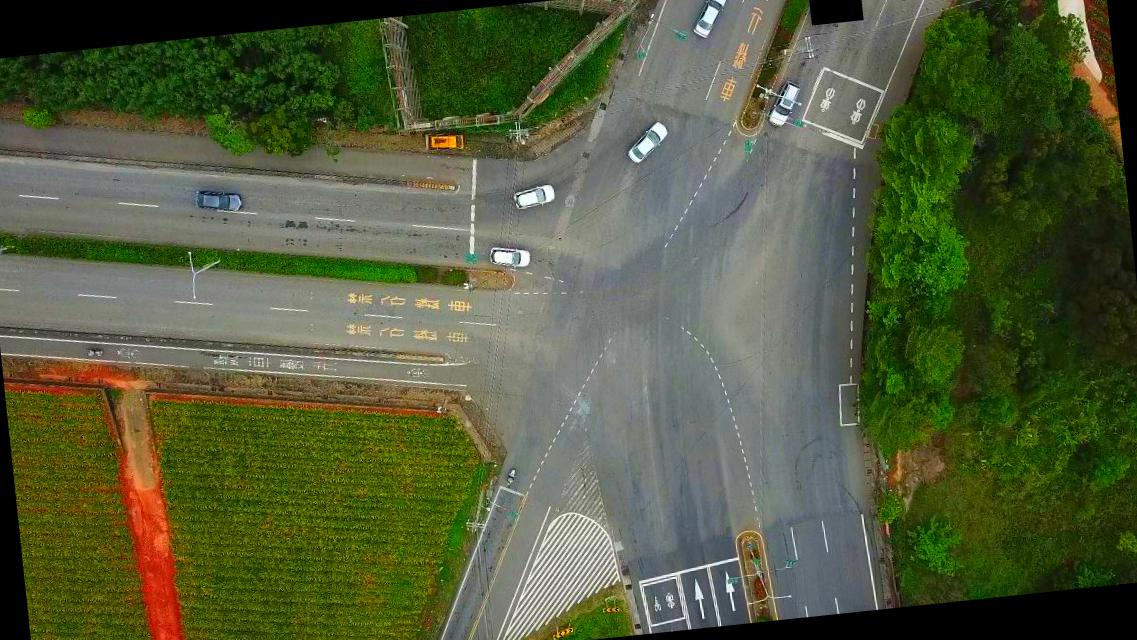vehicle: (687, 0, 733, 41), (626, 121, 671, 162), (766, 81, 802, 129), (193, 186, 244, 214), (511, 183, 556, 209), (490, 242, 531, 270), (426, 130, 467, 152)
